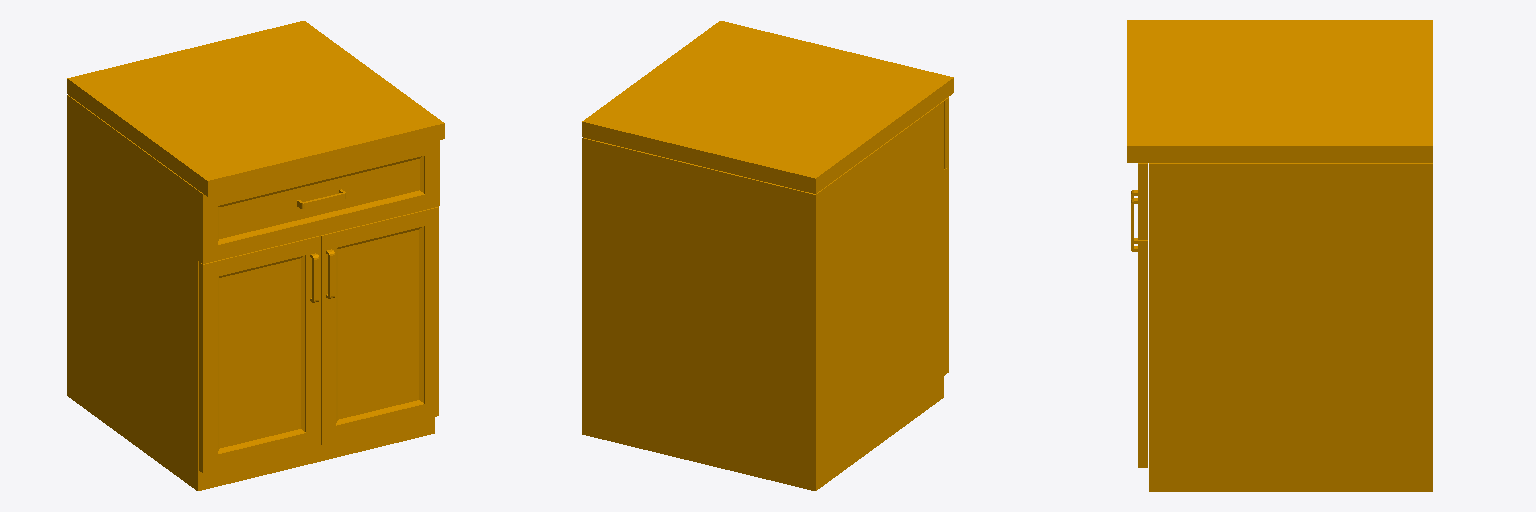
robot.urdf — model.urdf:
<?xml version="0.0" ?>
<robot name="model.urdf">
  <link name="baseLink">
    <contact>
      <friction_anchor/>
      <lateral_friction value="0.3"/>
      <rolling_friction value="0.0"/>
      <contact_cfm value="0.0"/>
      <contact_erp value="1.0"/>
    </contact>
    <inertial>
       <origin rpy="0 0 0" xyz="0 0 0"/>
       <mass value="0.1"/>
       <inertia ixx="8e-05" ixy="0" ixz="0" iyy="0.0002" iyz="0" izz="0.0002"/>
    </inertial>
    <visual>
      <geometry>
        <mesh filename="countertop.obj" scale="1 1 1"/>
      </geometry>
    </visual>
    <collision>
      <geometry>
    	 	<mesh filename="countertop.obj" scale="1 1 1"/>
      </geometry>
    </collision>
  </link>
</robot>

--- Render facts (derived) ---
3 views of the same robot in one strip: view 1: azimuth 30°, elevation 25°; view 2: azimuth 150°, elevation 25°; view 3: azimuth 270°, elevation 25° (orthographic).
Robot: model.urdf — 1 links, 0 joints (none); root link baseLink; default pose: every joint at zero.
Links seen in each view (by area): view 1: baseLink; view 2: baseLink; view 3: baseLink.
Link boxes in pixels (box(x1,y1,x2,y2)): baseLink: box(67, 21, 444, 490); baseLink: box(582, 21, 953, 490); baseLink: box(1127, 20, 1432, 491).
Size in the robot's own frame: 0.6479 by 0.6641 by 0.8292 metres.
1 mesh visuals loaded from 1 distinct referenced files (1 OBJ).
